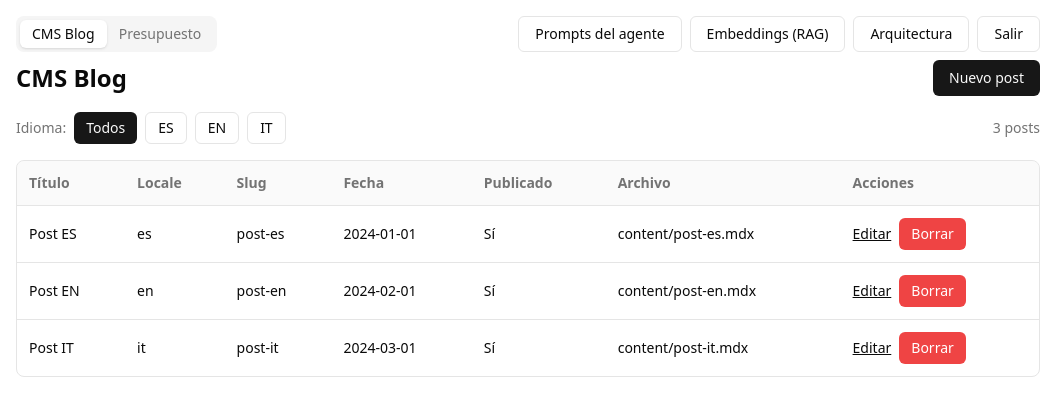
Test: AdminDashboardTabs › locale filter › resets to all posts when clicking 'Todos'
Click the button "ES". click: (166, 128)
box: [145,112,187,144]
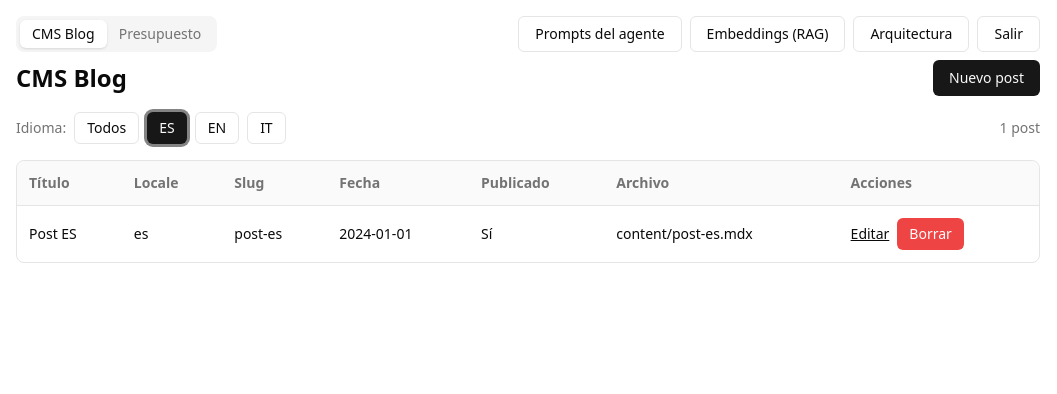
Click the button "Todos". click: (107, 128)
box: [74,112,139,144]
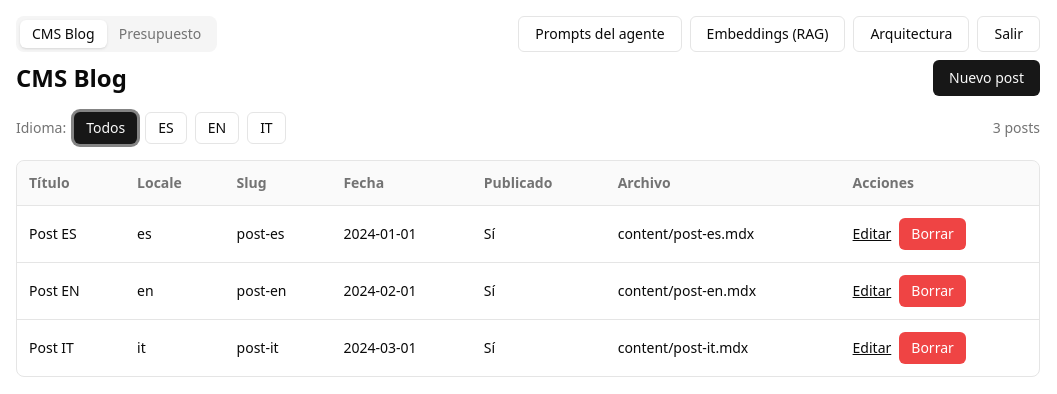
expect the button "Todos" is pressed: met, box [74,112,137,144]
